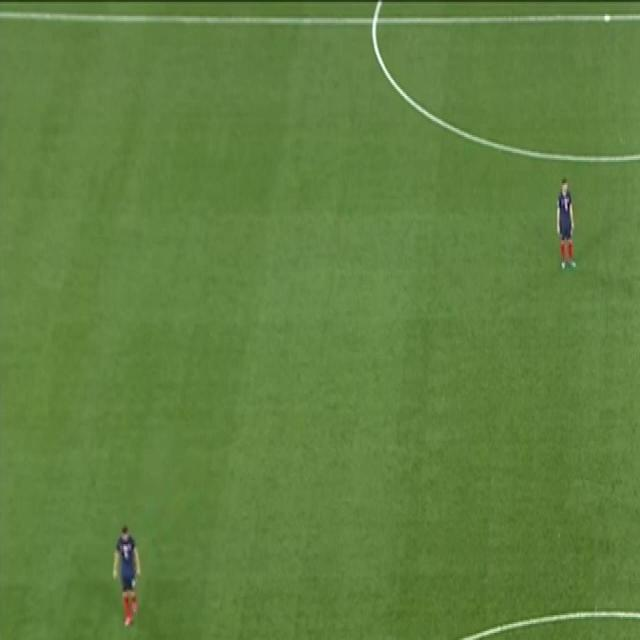player-white: (110, 520, 143, 631), (555, 174, 579, 274)
